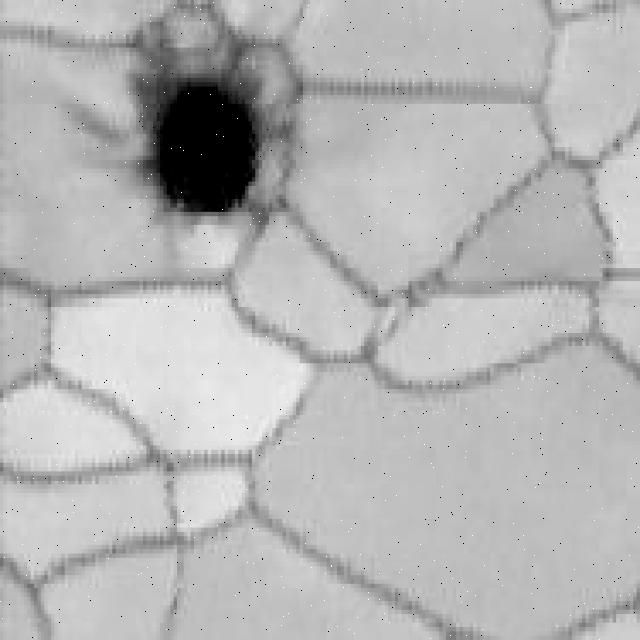good_void: (136, 22, 295, 223)
